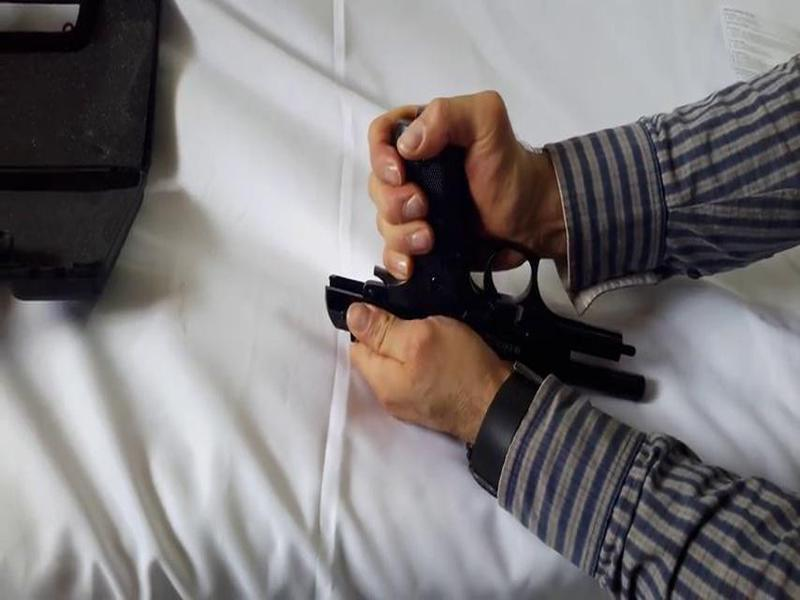Pistola: (291, 86, 670, 433)
